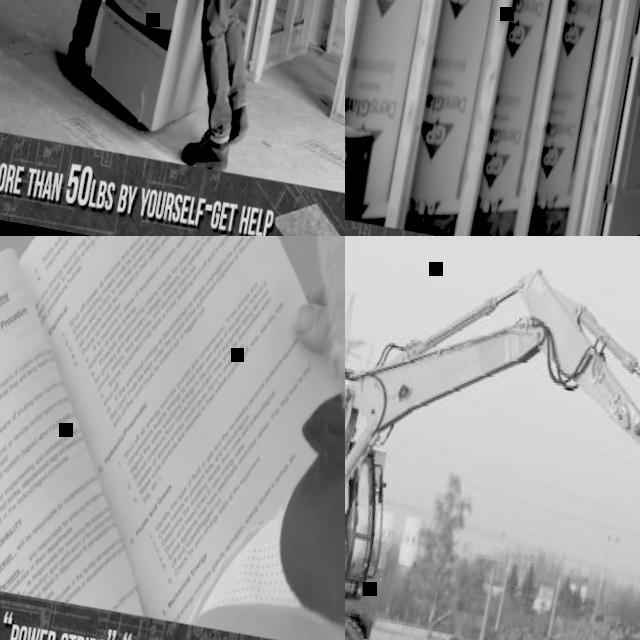machinery: (345, 236, 640, 640)
no_mask: (261, 236, 345, 478)
person: (189, 236, 345, 640), (157, 0, 327, 175), (60, 0, 213, 90)
vest: (191, 478, 345, 640)
